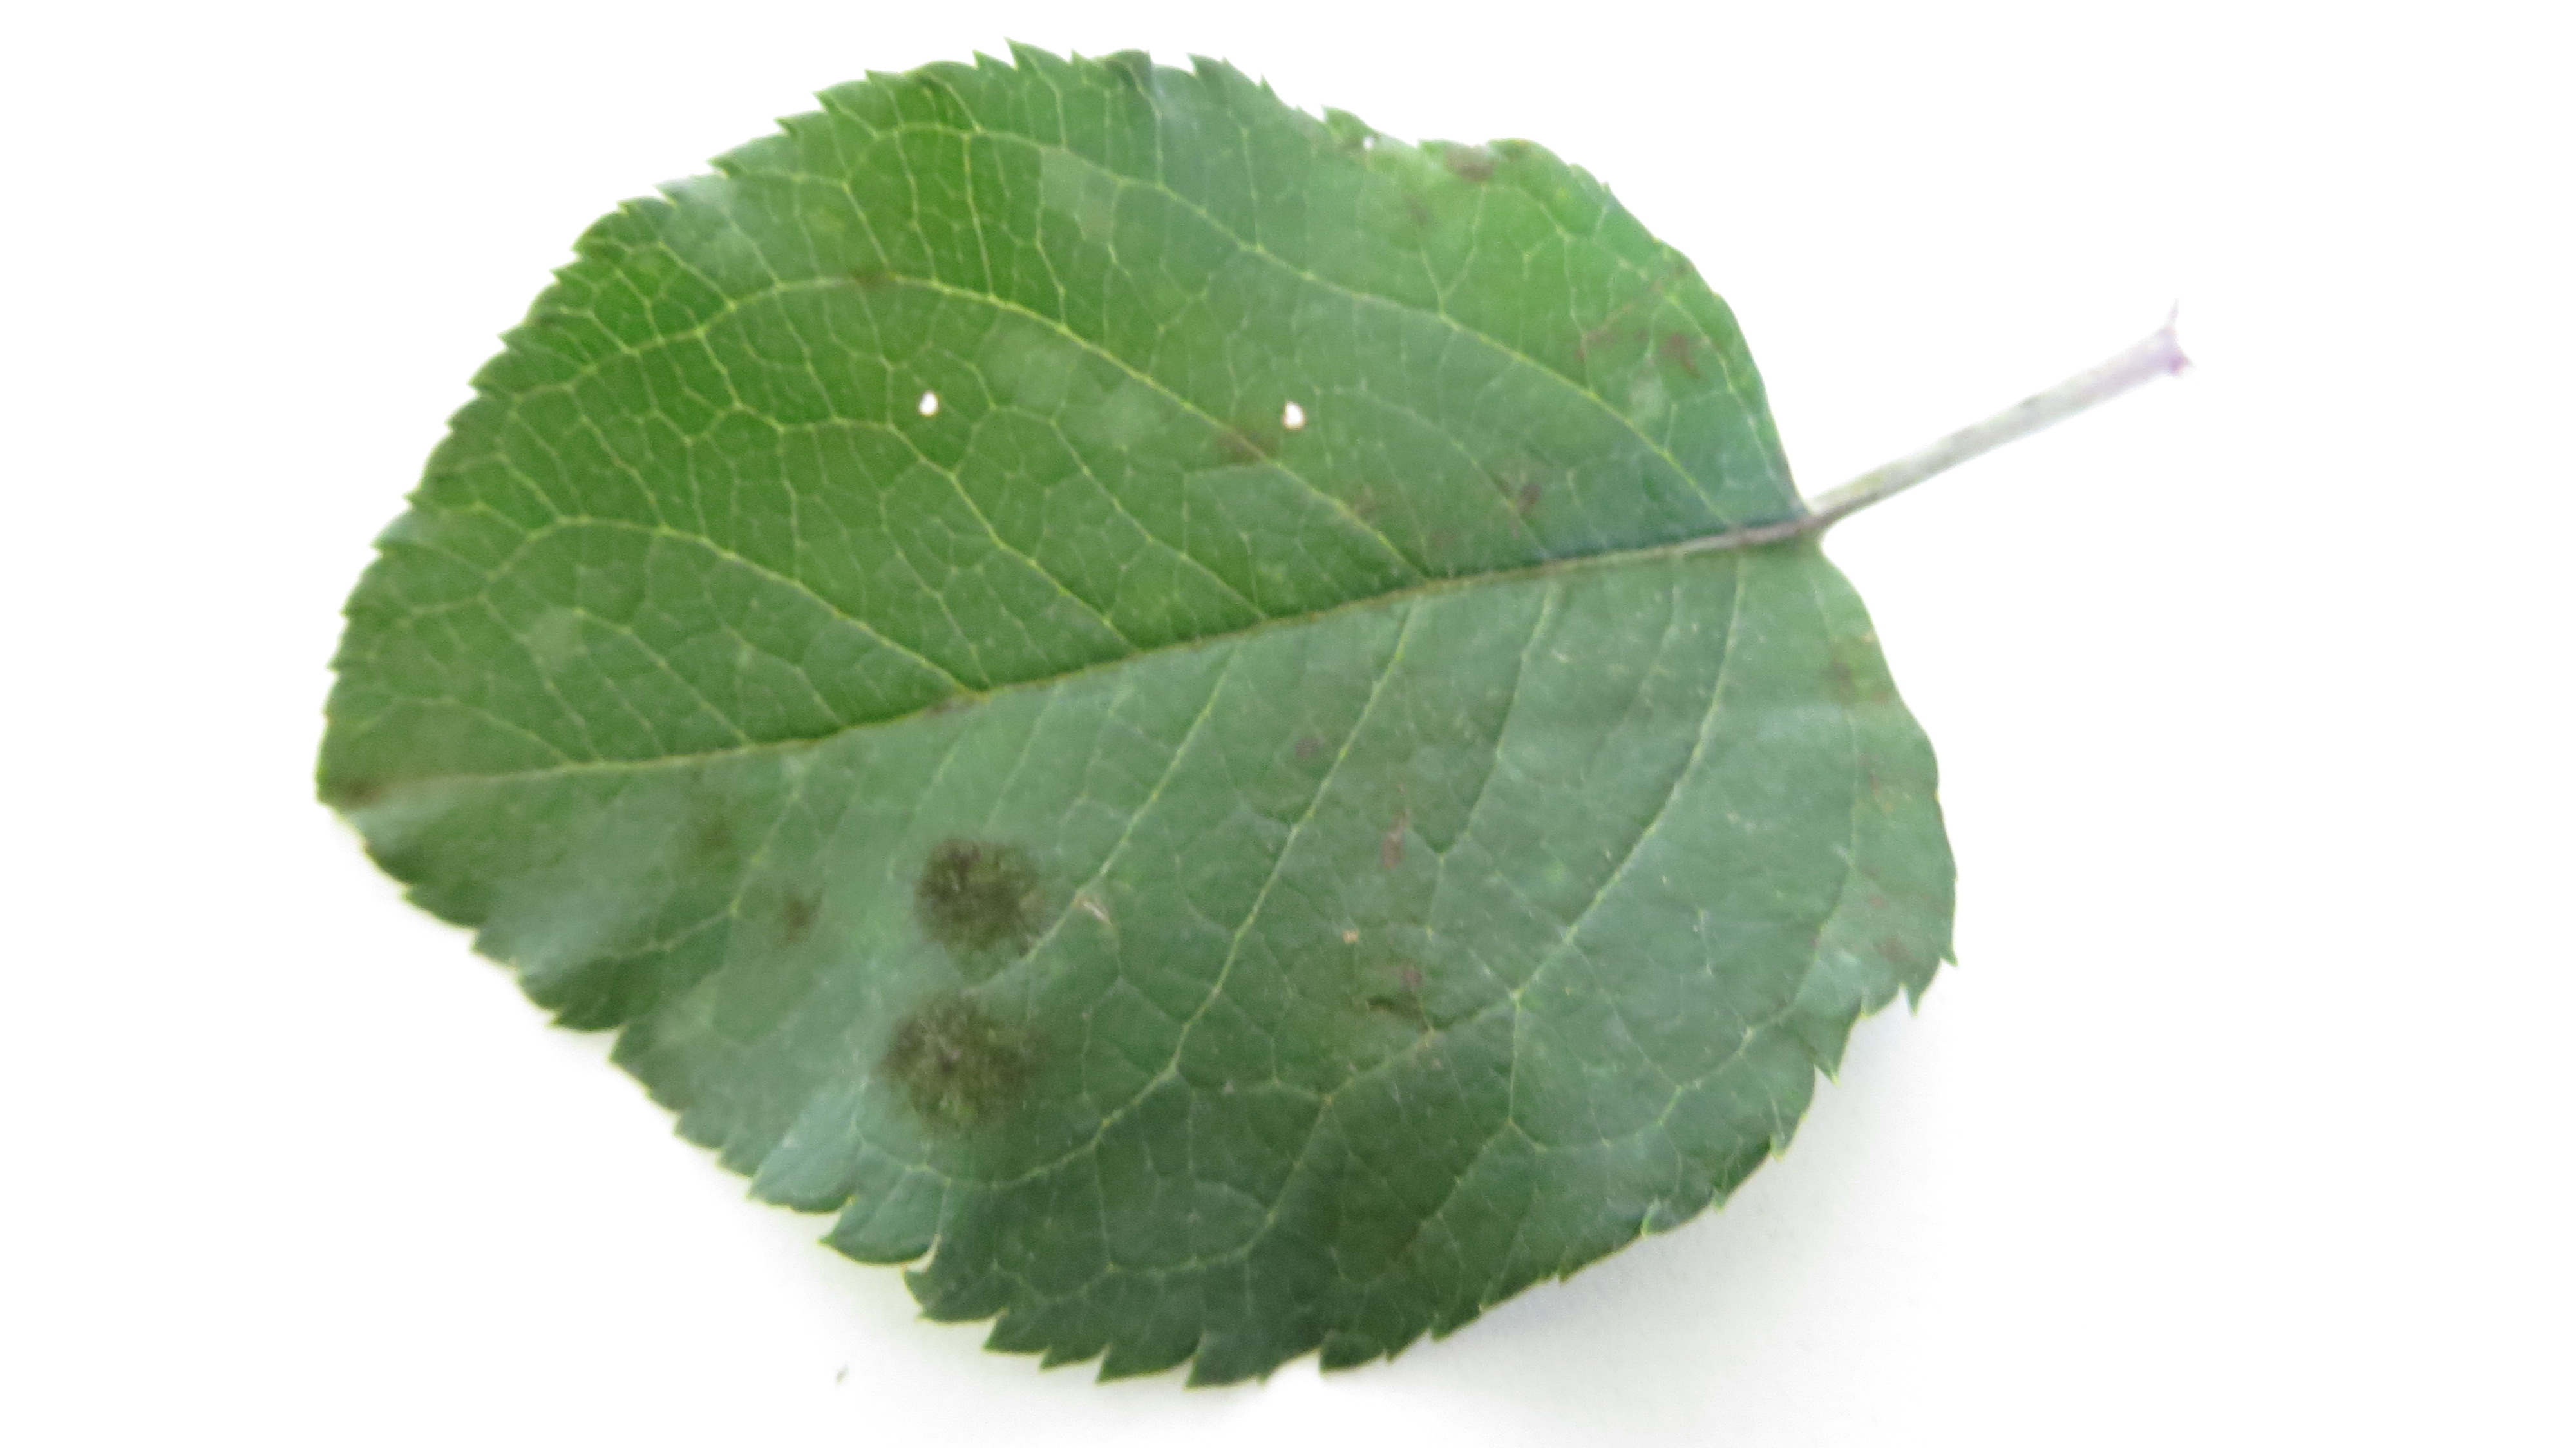sarna: (867, 986, 1051, 1135), (901, 828, 1058, 970), (658, 161, 786, 283), (1026, 131, 1136, 255), (982, 320, 1088, 411), (1357, 945, 1447, 1050), (308, 751, 405, 841), (1552, 294, 1642, 391), (754, 871, 844, 961), (508, 588, 605, 671), (1079, 375, 1177, 457), (1203, 412, 1293, 497), (828, 239, 924, 319), (1812, 637, 1893, 726), (671, 786, 752, 866), (1431, 124, 1514, 202), (1322, 478, 1405, 551), (1357, 800, 1428, 885), (1642, 320, 1718, 395), (1380, 182, 1461, 250), (1401, 513, 1479, 579), (1281, 720, 1350, 791), (1497, 455, 1552, 535)
